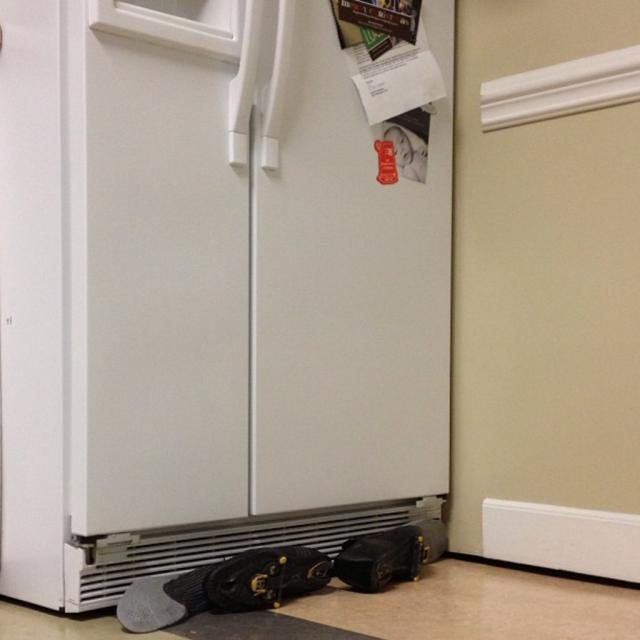refrigerator: (80, 0, 484, 619)
